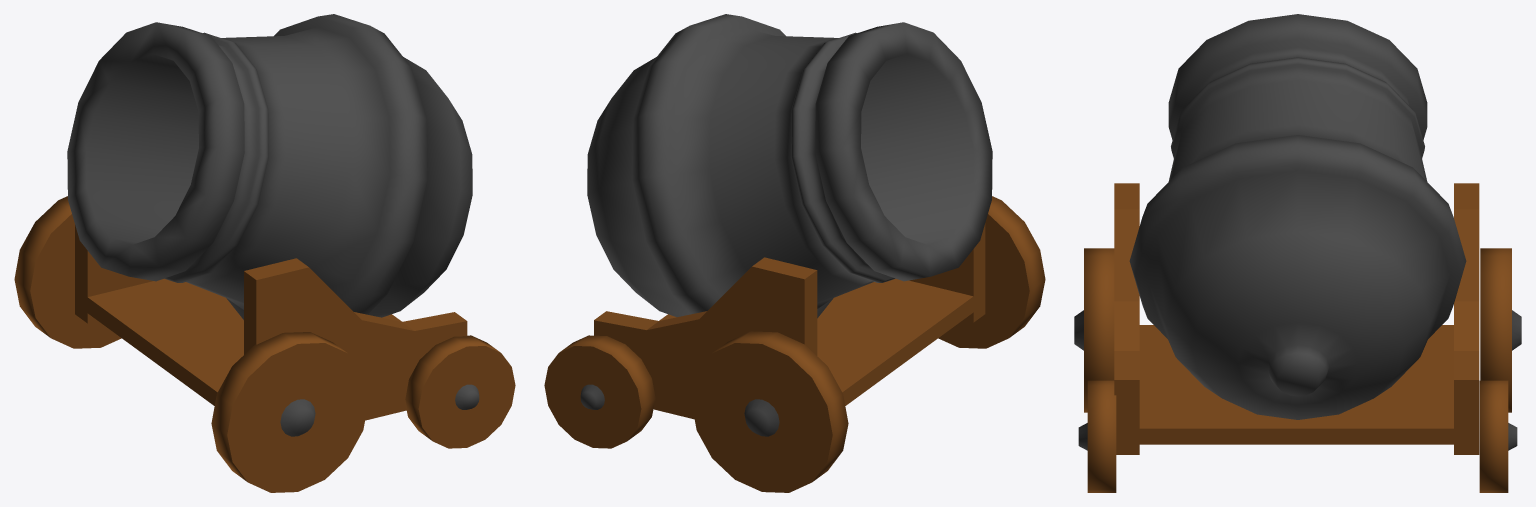
File: Cannon.fbx
3 views of the same model, side by side, from view 1: azimuth 30°, elevation 25°; view 2: azimuth 150°, elevation 25°; view 3: azimuth 270°, elevation 25° (orthographic).
Visible parts, largest first — view 1: Cannon, Stand, Front Wheels, Back Wheels; view 2: Cannon, Stand, Front Wheels, Back Wheels; view 3: Cannon, Stand, Front Wheels, Back Wheels.
Part boxes in pixels (<box>): Cannon: <box>67,14,472,319</box>; Stand: <box>75,225,467,420</box>; Front Wheels: <box>14,196,368,492</box>; Back Wheels: <box>405,335,515,448</box>; Cannon: <box>587,14,992,318</box>; Stand: <box>594,223,985,419</box>; Front Wheels: <box>691,196,1045,492</box>; Back Wheels: <box>544,335,655,448</box>; Cannon: <box>1129,14,1466,419</box>; Stand: <box>1114,183,1479,454</box>; Front Wheels: <box>1074,248,1521,412</box>; Back Wheels: <box>1078,380,1517,492</box>.
Size of the model in its own units: 311 by 323 by 338.
